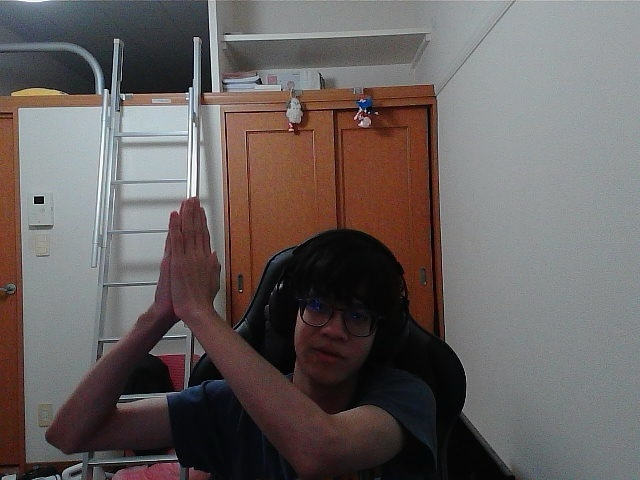pray: (175, 201, 217, 303)
